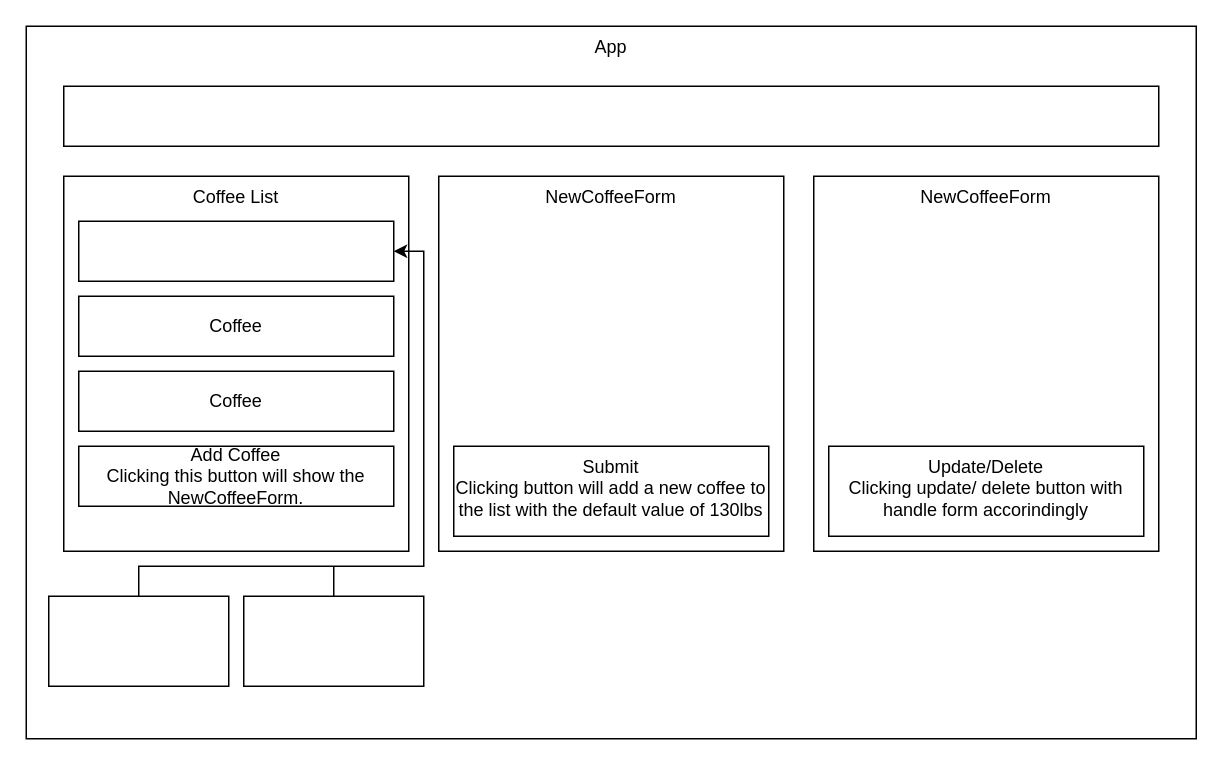
Some shapes in this 1223 by 765 pixel diagram are drawn without their labels. The centre of each missing label's shape, as x and y in pixels:
"Coffee name, origin, price, roast" belongs at point 235,250.
"Header" belongs at point 610,115.
"Restock Button (adds 130lbs to supply" belongs at point 333,640.
"Sale Button (reduces total supply by 1lb)" belongs at point 138,640.
